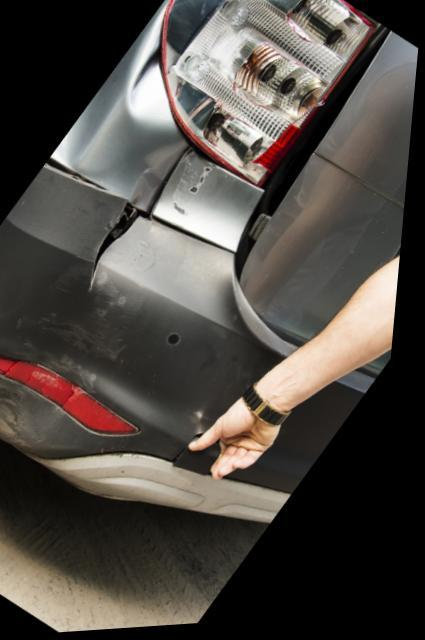crack: (90, 202, 141, 291)
dent: (0, 262, 129, 446), (129, 27, 173, 126)
dislocated part: (42, 157, 119, 202)
lamp broken: (157, 0, 376, 192)
scratch: (170, 156, 221, 221)
